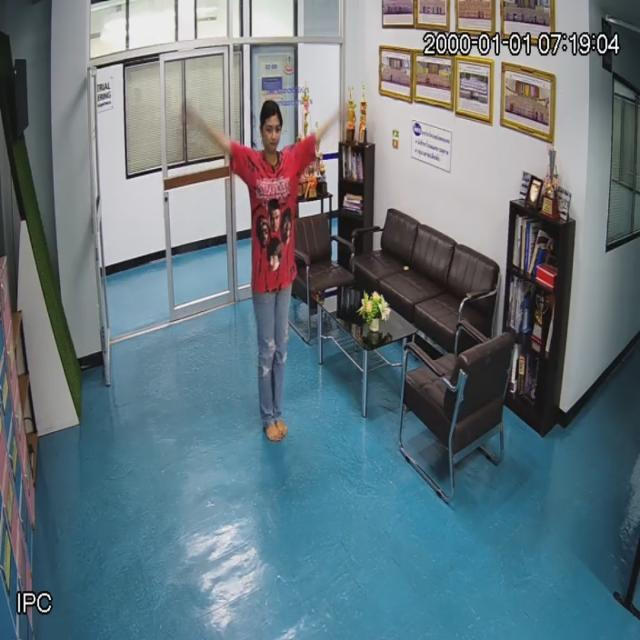normal: (234, 97, 306, 439)
